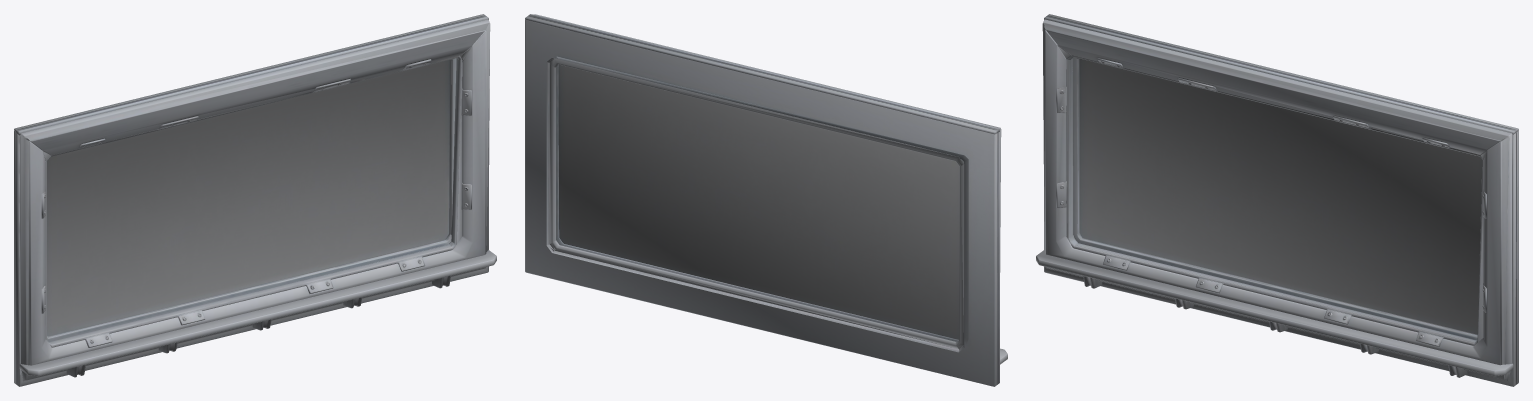
The model's file is tripo_convert_519d4e0c-8861-4927-925e-bc7d47d000fb.fbx.
3 renders of one model, left to right at view 1: azimuth 30°, elevation 25°; view 2: azimuth 150°, elevation 25°; view 3: azimuth 330°, elevation 25°, orthographic.
Visible parts, largest first — view 1: tripo_part_2, tripo_part_0, tripo_part_40, tripo_part_3; view 2: tripo_part_2, tripo_part_5, tripo_part_3, tripo_part_0; view 3: tripo_part_2, tripo_part_0, tripo_part_40, tripo_part_3.
Part boxes in pixels (<box>): tripo_part_2: <box>14,14,488,386</box>; tripo_part_0: <box>20,19,490,380</box>; tripo_part_40: <box>19,250,496,376</box>; tripo_part_3: <box>47,58,456,341</box>; tripo_part_2: <box>525,14,999,386</box>; tripo_part_5: <box>546,57,964,352</box>; tripo_part_3: <box>555,56,968,345</box>; tripo_part_0: <box>534,14,1001,272</box>; tripo_part_2: <box>1044,14,1518,386</box>; tripo_part_0: <box>1042,19,1512,380</box>; tripo_part_40: <box>1036,250,1513,376</box>; tripo_part_3: <box>1073,57,1477,340</box>.
Bounding box in the file's own units: 0.9995 × 0.52 × 0.0854.
Materials: 1 (1 with a texture image).
